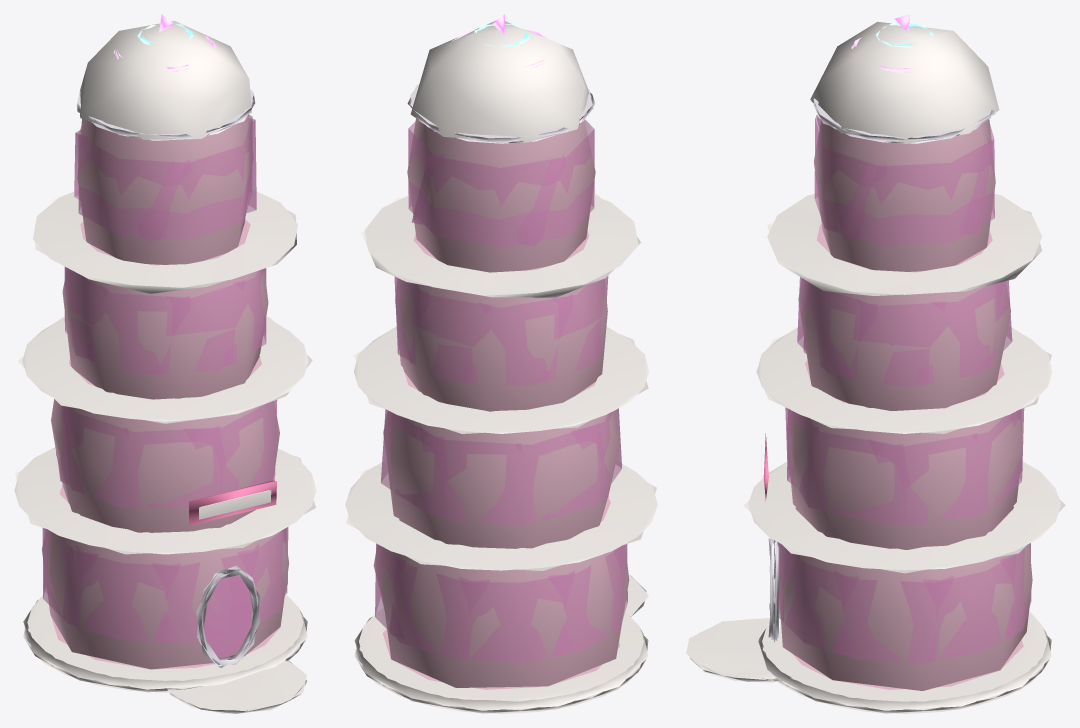
Rendered from lod_building_bubble_tall.glb.
The picture shows the model from 3 angles, left to right: view 1: azimuth 30°, elevation 25°; view 2: azimuth 150°, elevation 25°; view 3: azimuth 270°, elevation 25°; orthographic projection. The views are drawn at different scales.
Visible parts, largest first — view 1: building_bubble_tall; view 2: building_bubble_tall; view 3: building_bubble_tall.
Part boxes in pixels (left/top/right/bottom): building_bubble_tall: left=14, top=14, right=316, bottom=713; building_bubble_tall: left=345, top=14, right=657, bottom=713; building_bubble_tall: left=686, top=14, right=1065, bottom=713.
Bounding box in the file's own units: 6.77 × 14.8 × 7.98.
